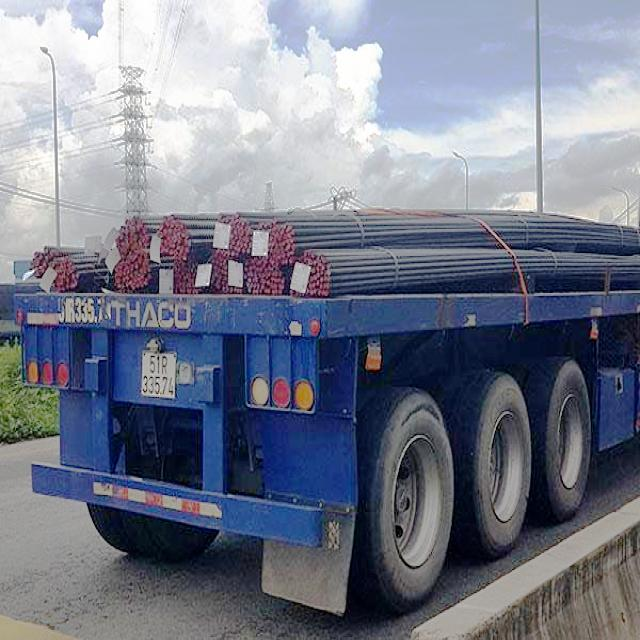license_plate: (142, 353, 176, 404)
